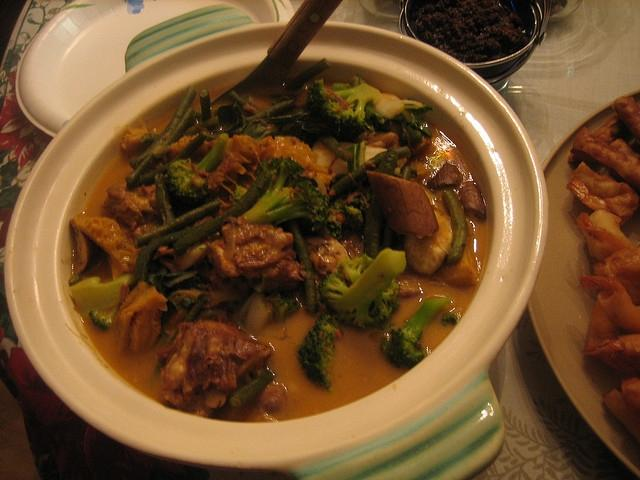broccoli: (319, 248, 406, 329), (244, 156, 329, 230), (382, 296, 452, 370), (304, 78, 382, 144), (167, 134, 228, 200), (68, 273, 134, 330), (297, 312, 343, 392), (364, 104, 383, 127)
green bean: (174, 171, 272, 257), (128, 85, 196, 171), (126, 109, 194, 184), (126, 133, 206, 189), (134, 199, 220, 249), (130, 228, 194, 290), (364, 150, 398, 258), (382, 166, 417, 249), (328, 150, 388, 196), (289, 220, 318, 314), (170, 294, 208, 346), (442, 190, 468, 264), (229, 368, 274, 410), (284, 58, 332, 92), (244, 98, 294, 126), (195, 133, 229, 172), (154, 173, 174, 225), (321, 137, 355, 163), (228, 90, 262, 112), (347, 140, 368, 173), (199, 88, 212, 120)
